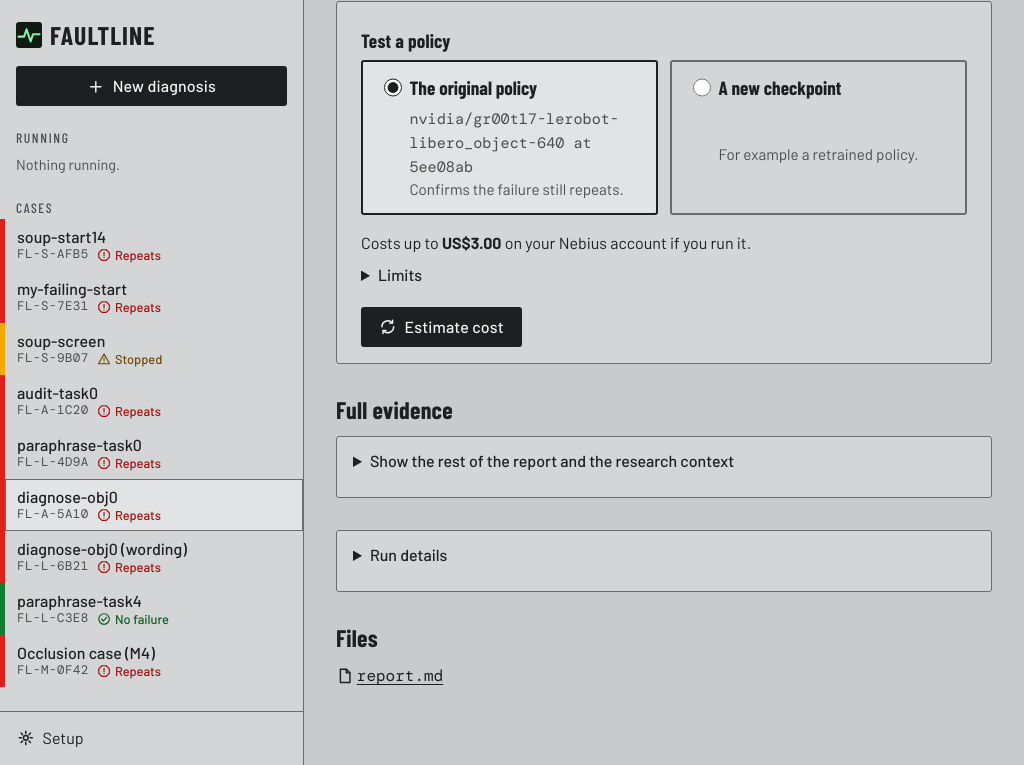
research context on a case › keeps the older research record inside Full evidence, as context and not evidence
(page scrolled)
Click the heading "Show the rest of the report and the research context": click(552, 460) [370, 451, 734, 470]
(page scrolled)
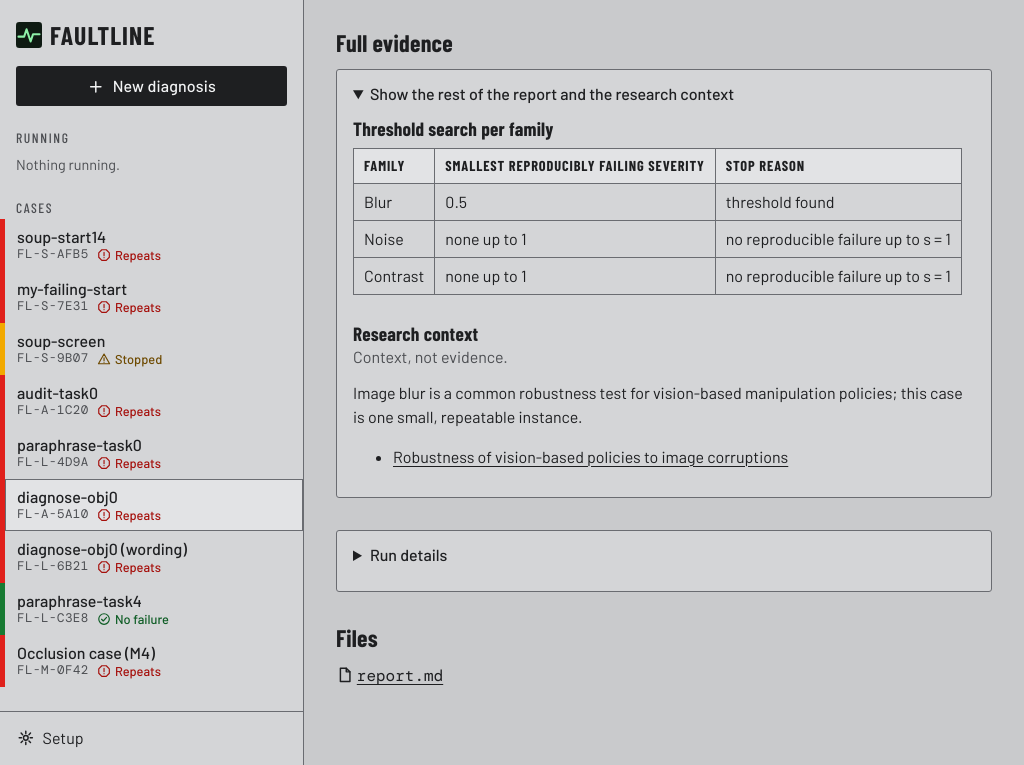
Expected: the heading "Research context" is shown, [353, 322, 478, 344]
Expected: the text "Context, not evidence." is shown, [353, 347, 508, 366]
